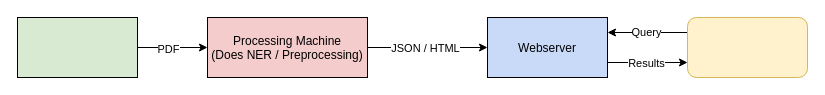
The diagram is 825 pixels wide and 95 high, and some of its shapes have lost their labels. The shapes that lost their labels are listed below. From the top down, each one's centre as x and y in pixels, then its label:
At pixel 77 47: "Archive".
At pixel 747 47: "User".
